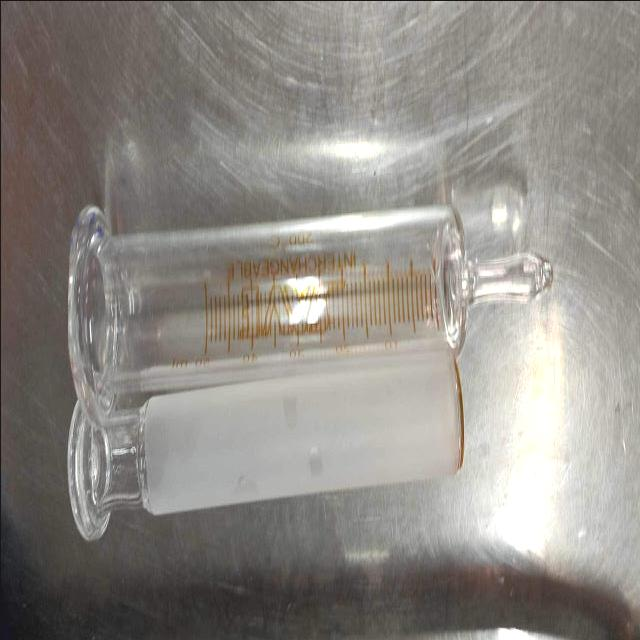Infectious: (65, 344, 464, 542)
Sharps: (65, 199, 552, 429)
